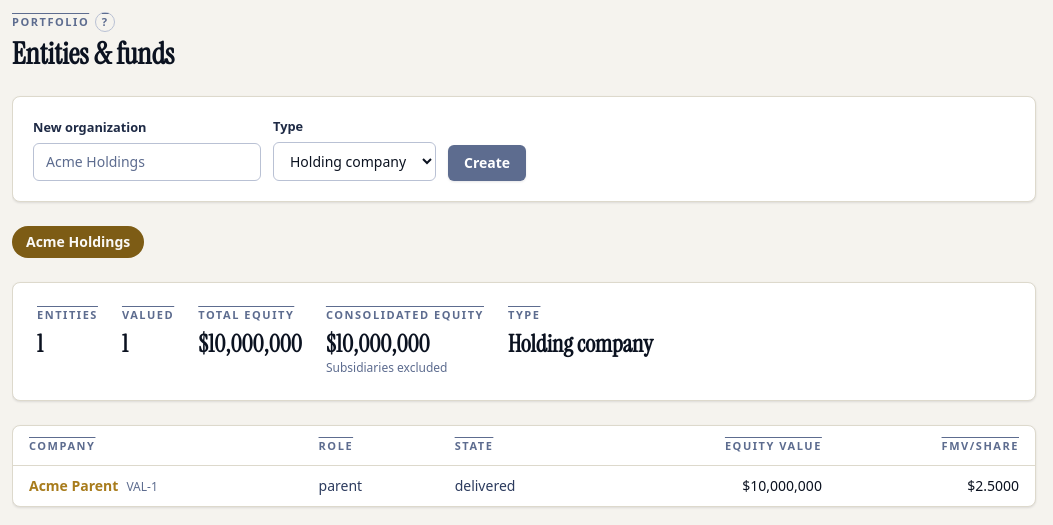
Test: PortfolioPage — creating an organization › creates the organization and selects it
Type "  Beta Fund  " into the field with placeholder "Acme Holdings" at (147, 162), box [33,143,261,181]
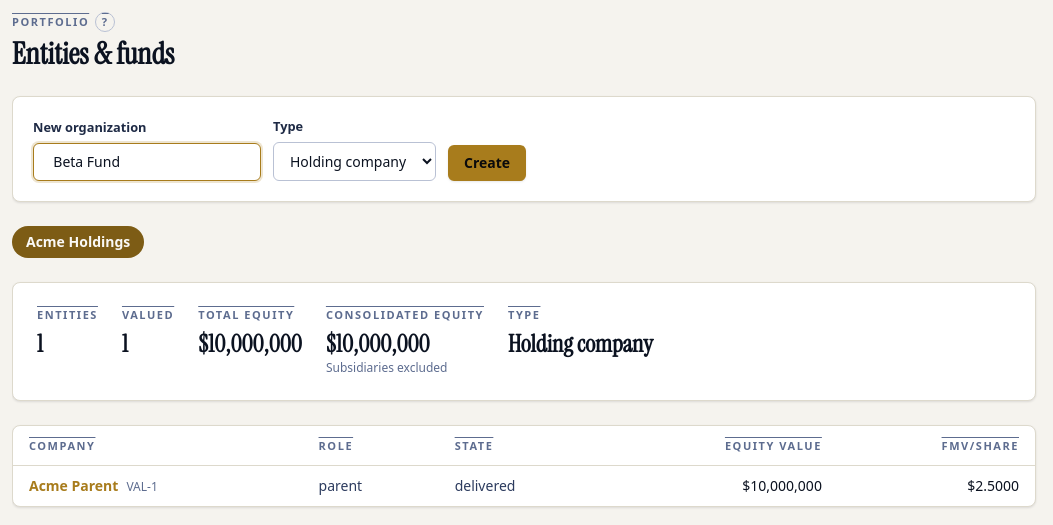
Select "Fund" in the dropdown named "Organization type" at (354, 162), box [273,142,436,181]
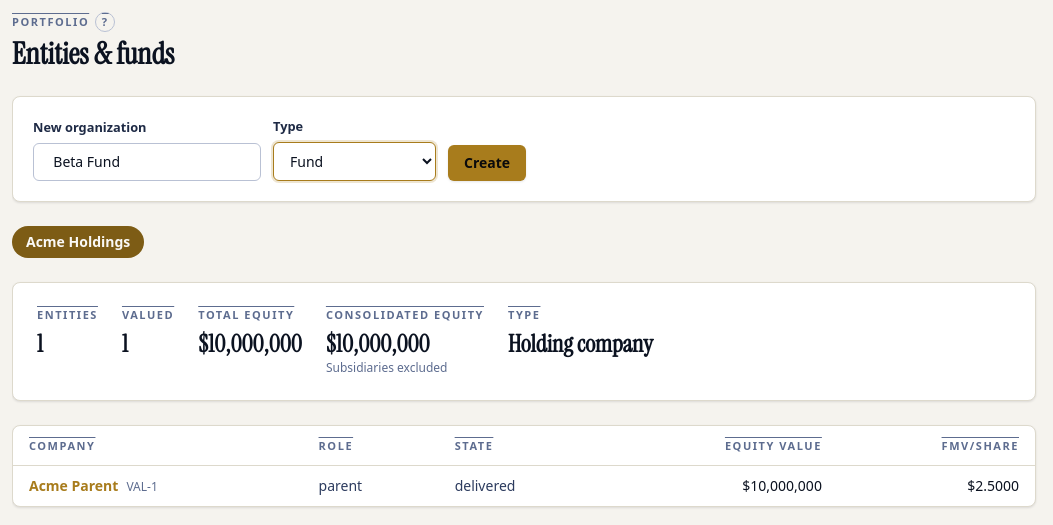
Click the button "Create" at (487, 163), box [448,145,526,181]
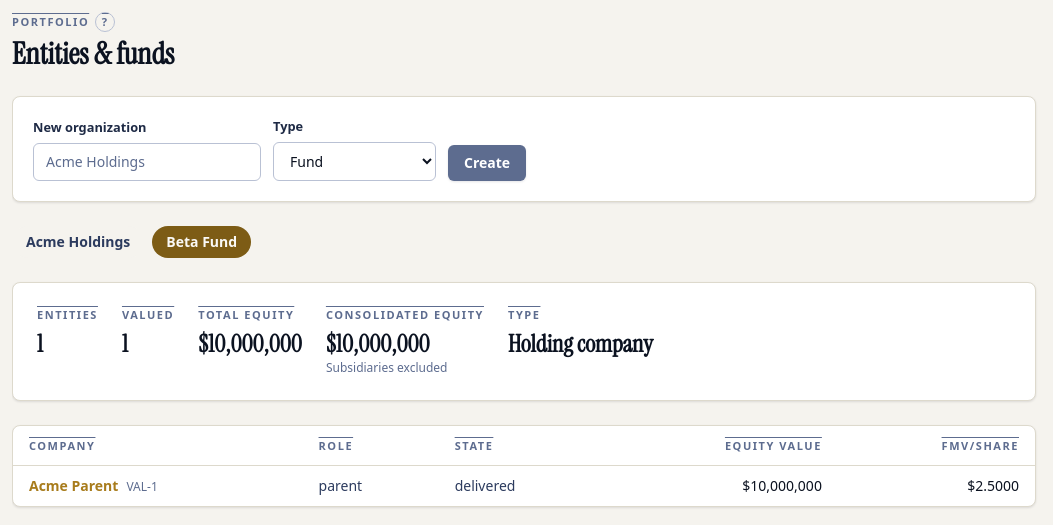
Expected: the button "Beta Fund" is shown, [152,226,251,258]
